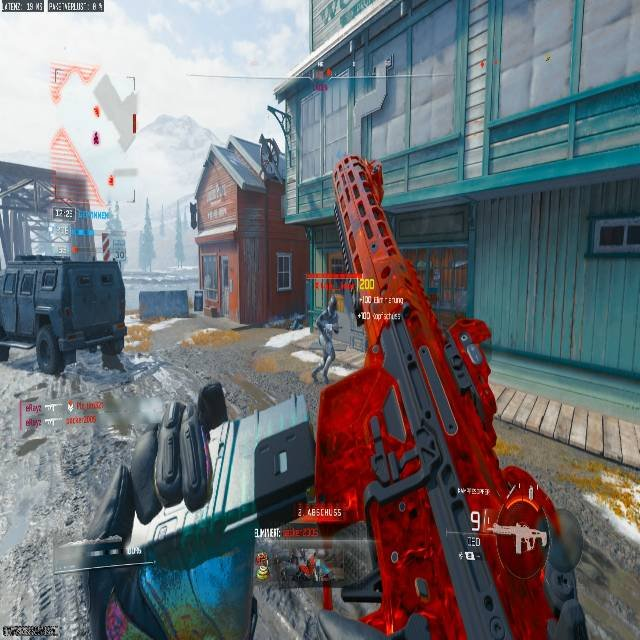head: (328, 295, 337, 312)
player: (311, 296, 342, 384)
